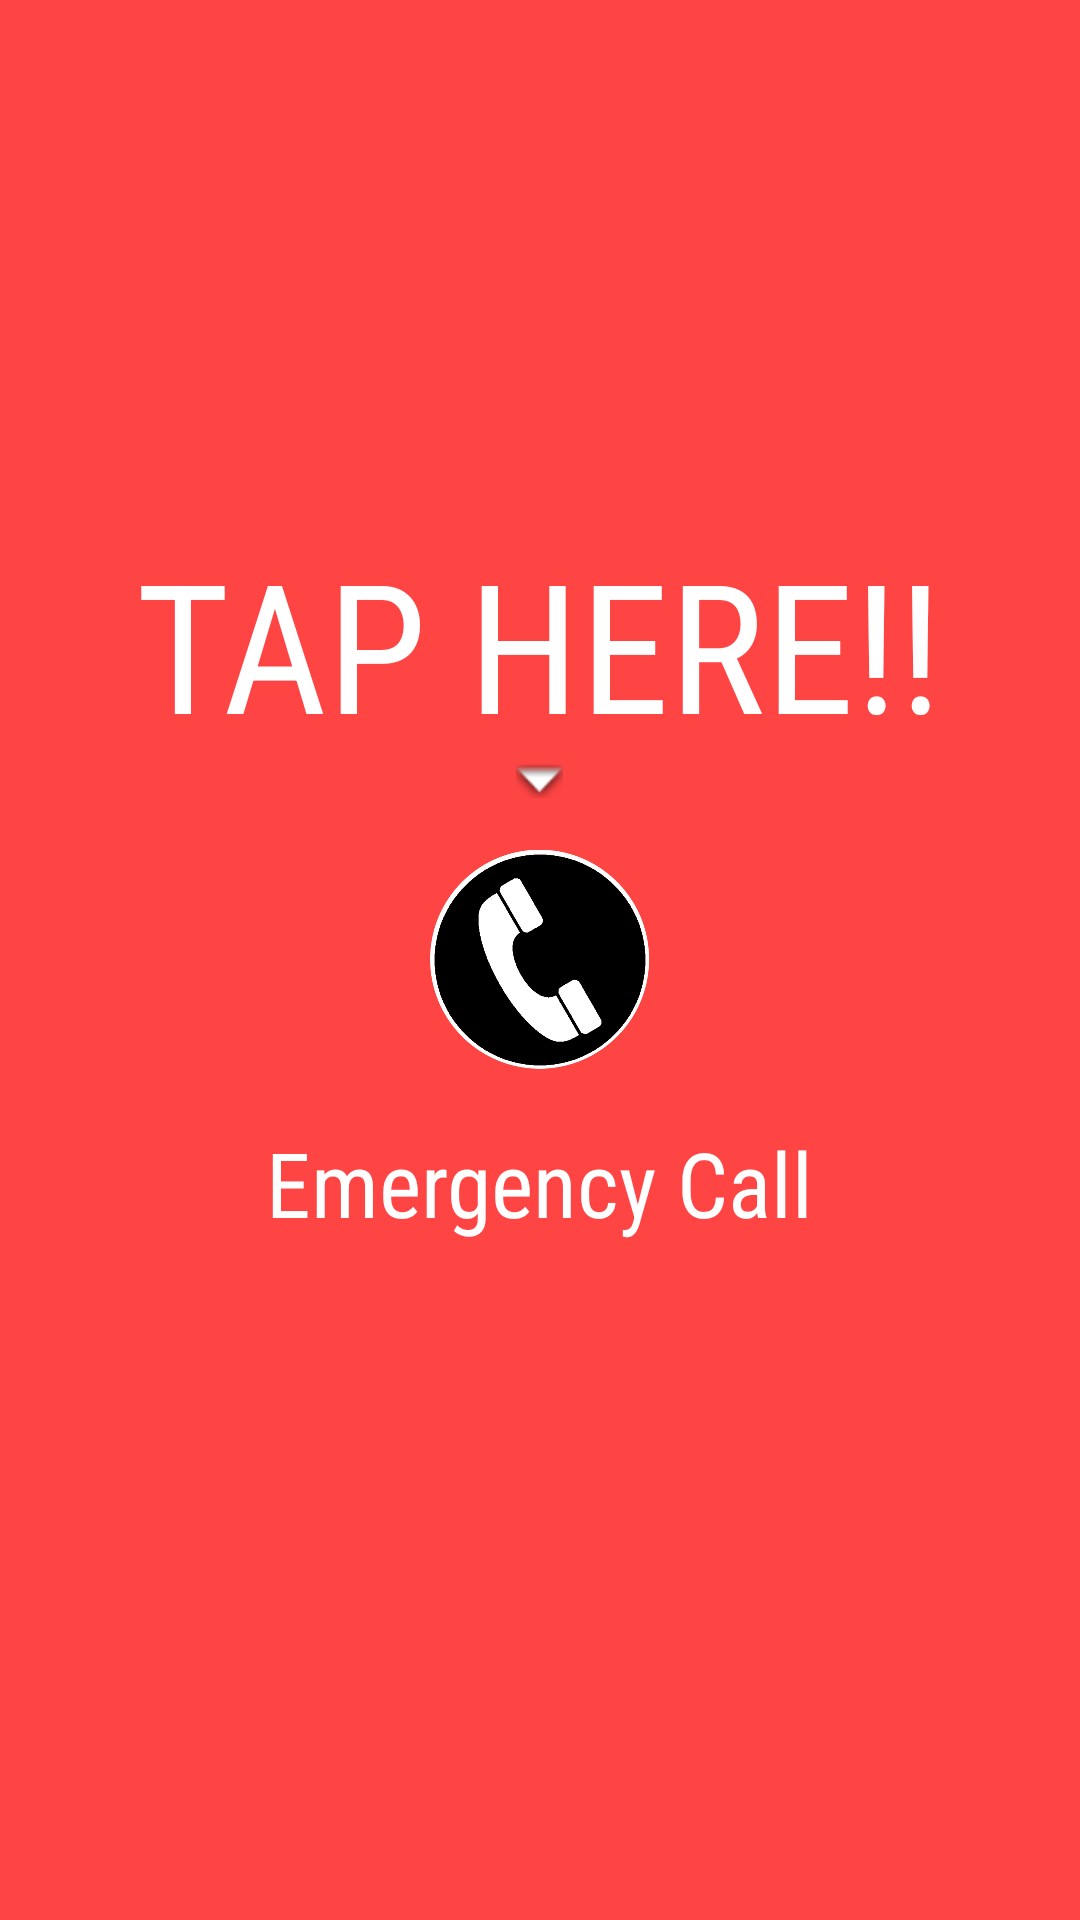

Icons on this 1080 x 1920 Android screen, each with its box as (x1, y1, x2, y2):
down arrow: (516, 765, 563, 797)
phonecall: (430, 850, 649, 1069)
